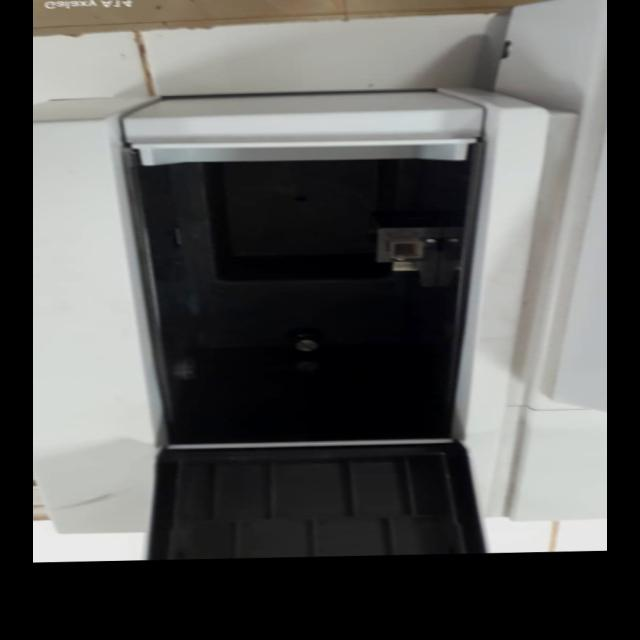Spectrophotometer: (123, 92, 607, 468)
